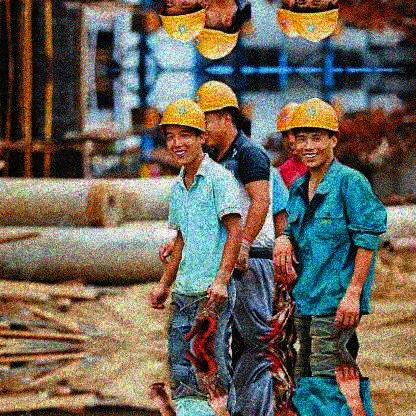helmet: (290, 97, 340, 167), (193, 79, 240, 147), (158, 98, 206, 164), (193, 1, 241, 63), (274, 101, 299, 157)
